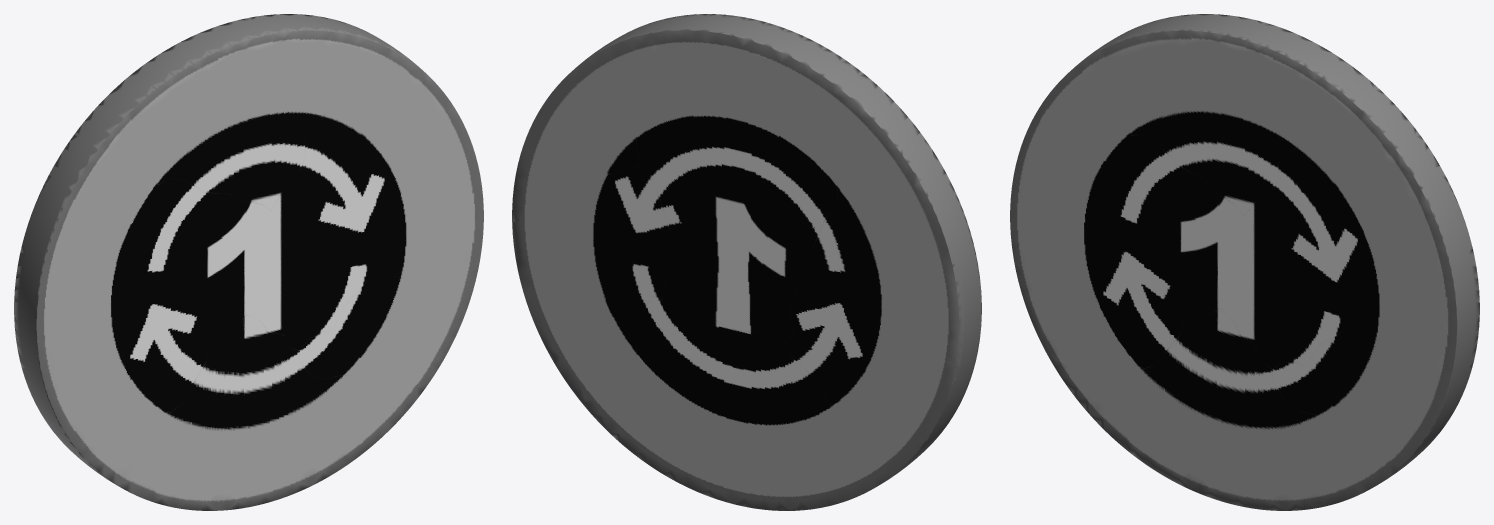
File: 1_round.glb
The picture shows the model from 3 angles, left to right: view 1: azimuth 30°, elevation 25°; view 2: azimuth 150°, elevation 25°; view 3: azimuth 330°, elevation 25°; orthographic projection.
Parts seen in each view (by area): view 1: node_id27; view 2: node_id27; view 3: node_id27.
Boxes of the visible parts, x1,y1,x2,y2 form: node_id27: [14, 14, 483, 510]; node_id27: [512, 14, 981, 510]; node_id27: [1010, 14, 1479, 510].
Size of the model in its own units: 0.512 by 0.512 by 0.0447.
Materials: 1 (1 with a texture image).
